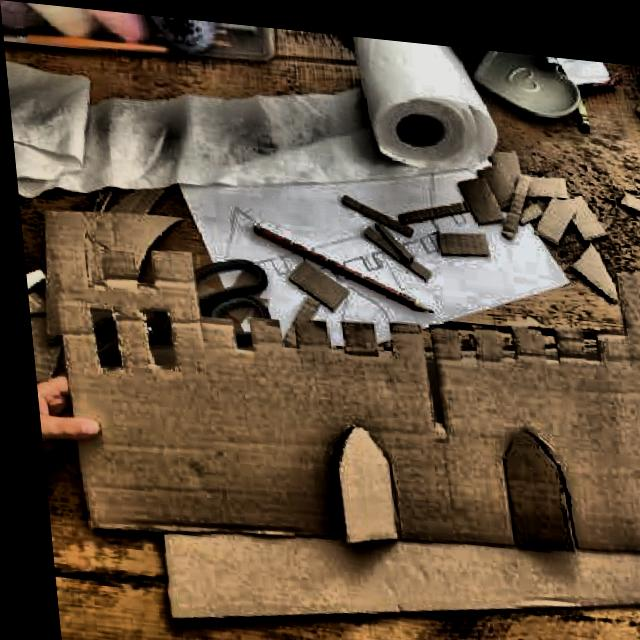Cardbox: (36, 204, 640, 562), (243, 183, 565, 325), (434, 221, 486, 250)
